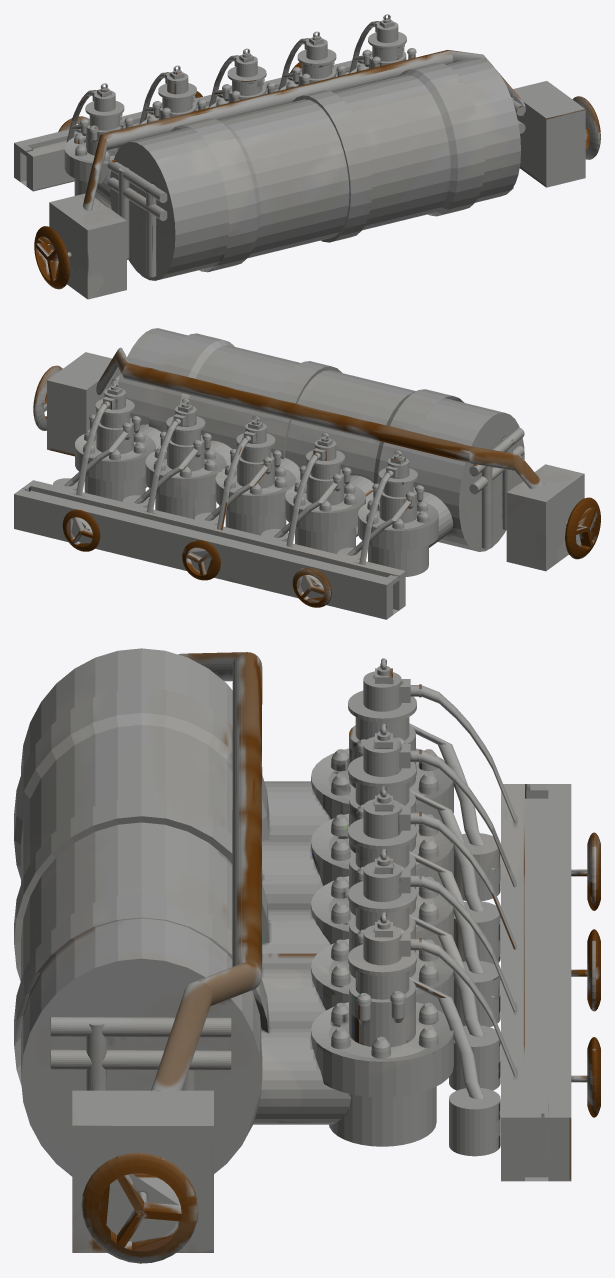
File: Engine.fbx
3 renders of one model, top to bottom at view 1: azimuth 30°, elevation 25°; view 2: azimuth 150°, elevation 25°; view 3: azimuth 270°, elevation 25°, orthographic. The views are drawn at different scales.
Visible parts, largest first — view 1: Cylinder.001; view 2: Cylinder.001; view 3: Cylinder.001.
Part boxes in pixels (x1,y1,x2,y2): Cylinder.001: (14, 14, 600, 299); Cylinder.001: (14, 328, 600, 619); Cylinder.001: (14, 648, 600, 1263).
Bounding box in the file's own units: 9722 × 2440 × 4968.
